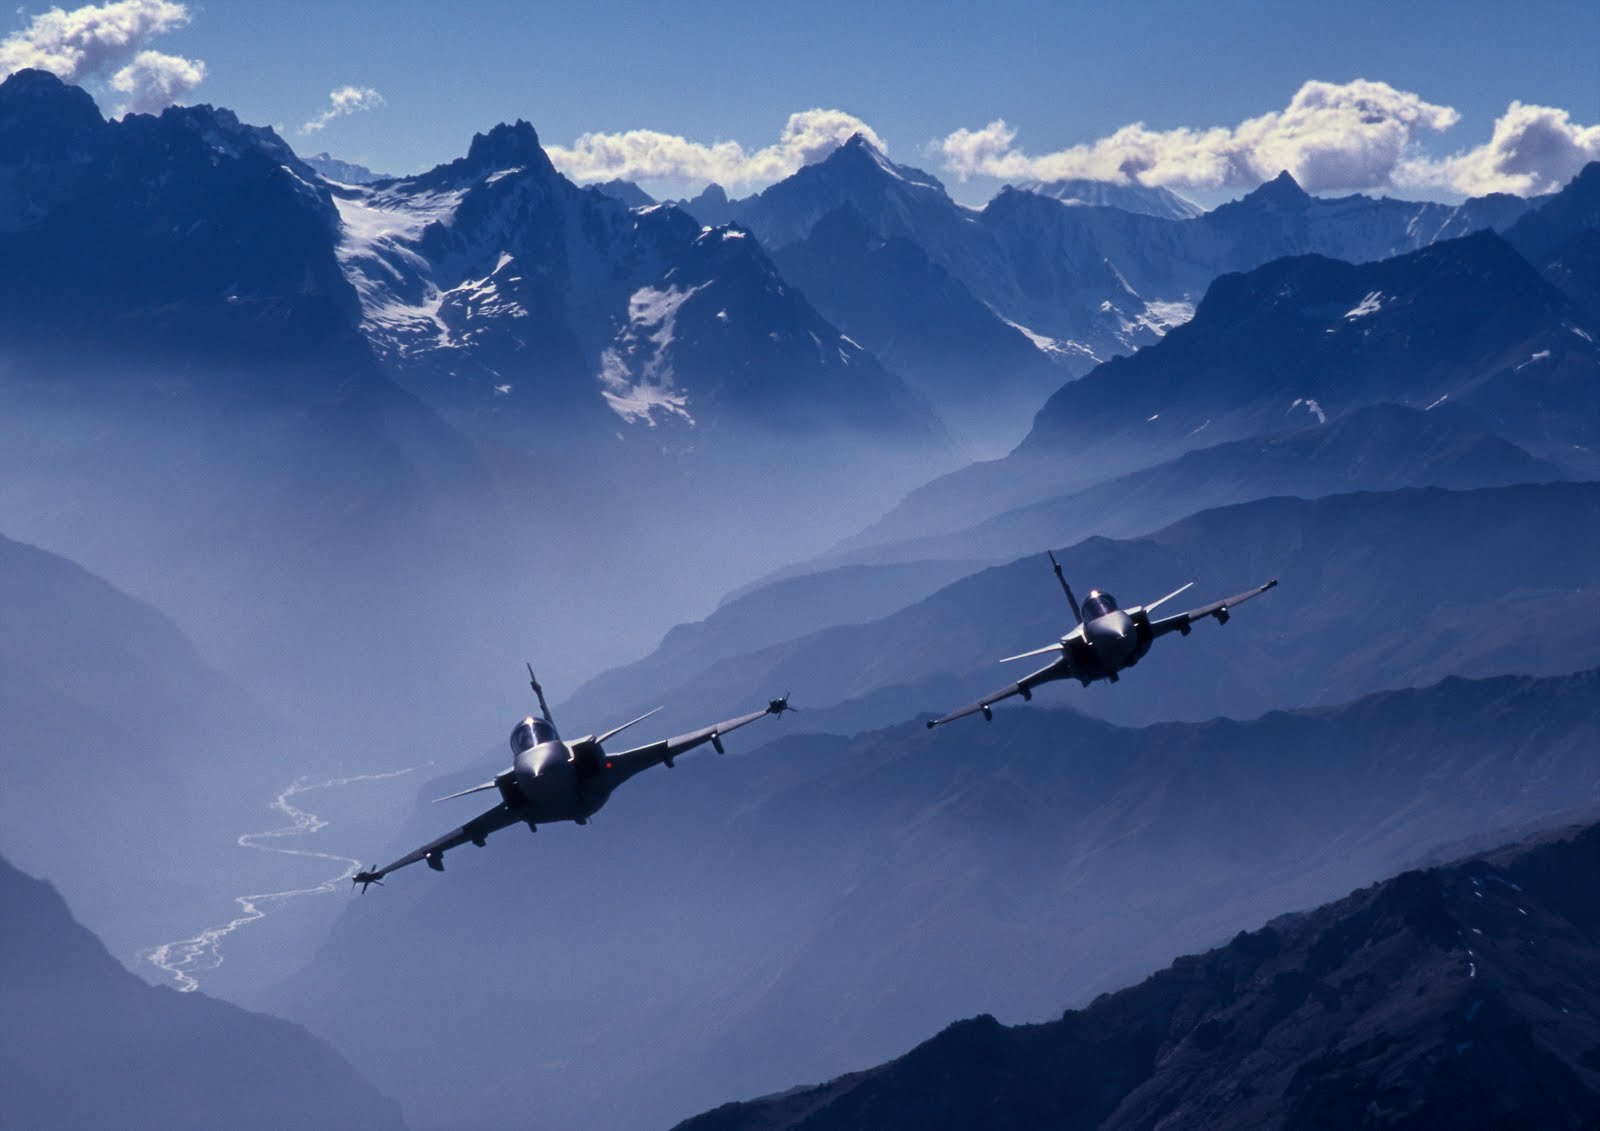JAS39: (349, 661, 799, 895), (925, 548, 1278, 730)
